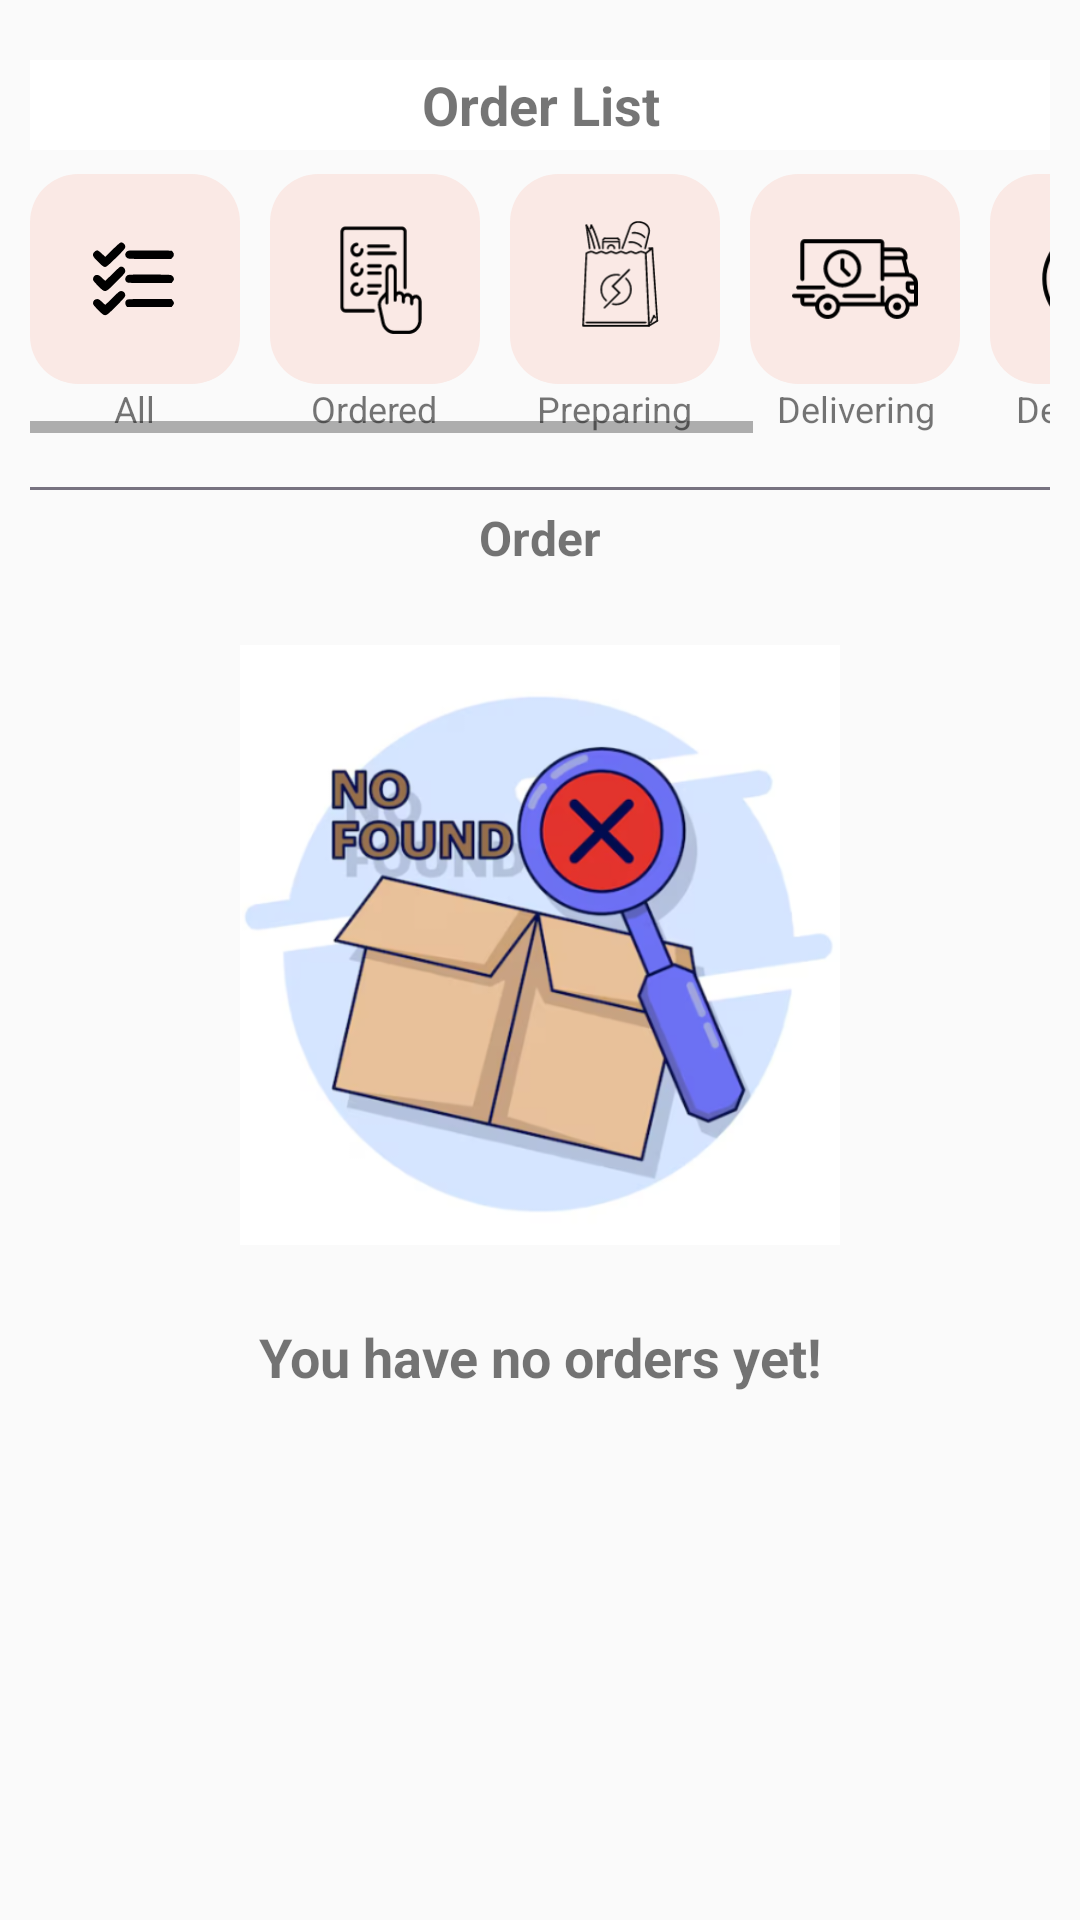

Screen size 1080x1920. Icon name, then its box in pixels as (x1, y1, x2, y2):
check all: (93, 242, 174, 316)
delivery: (792, 239, 918, 319)
food bag: (582, 221, 659, 327)
